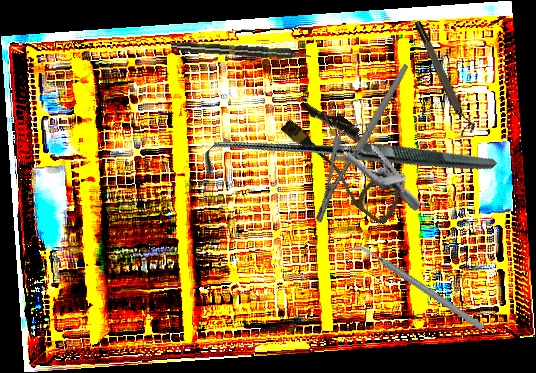Cannula: (270, 91, 422, 227)
Chopper: (348, 208, 486, 367)
Fixation Ring: (411, 16, 478, 138)
Handpiece: (170, 40, 312, 62)
Hook Surgical: (195, 12, 498, 314)
Needle Holder: (277, 63, 448, 224)
Speculum: (302, 87, 448, 213)
